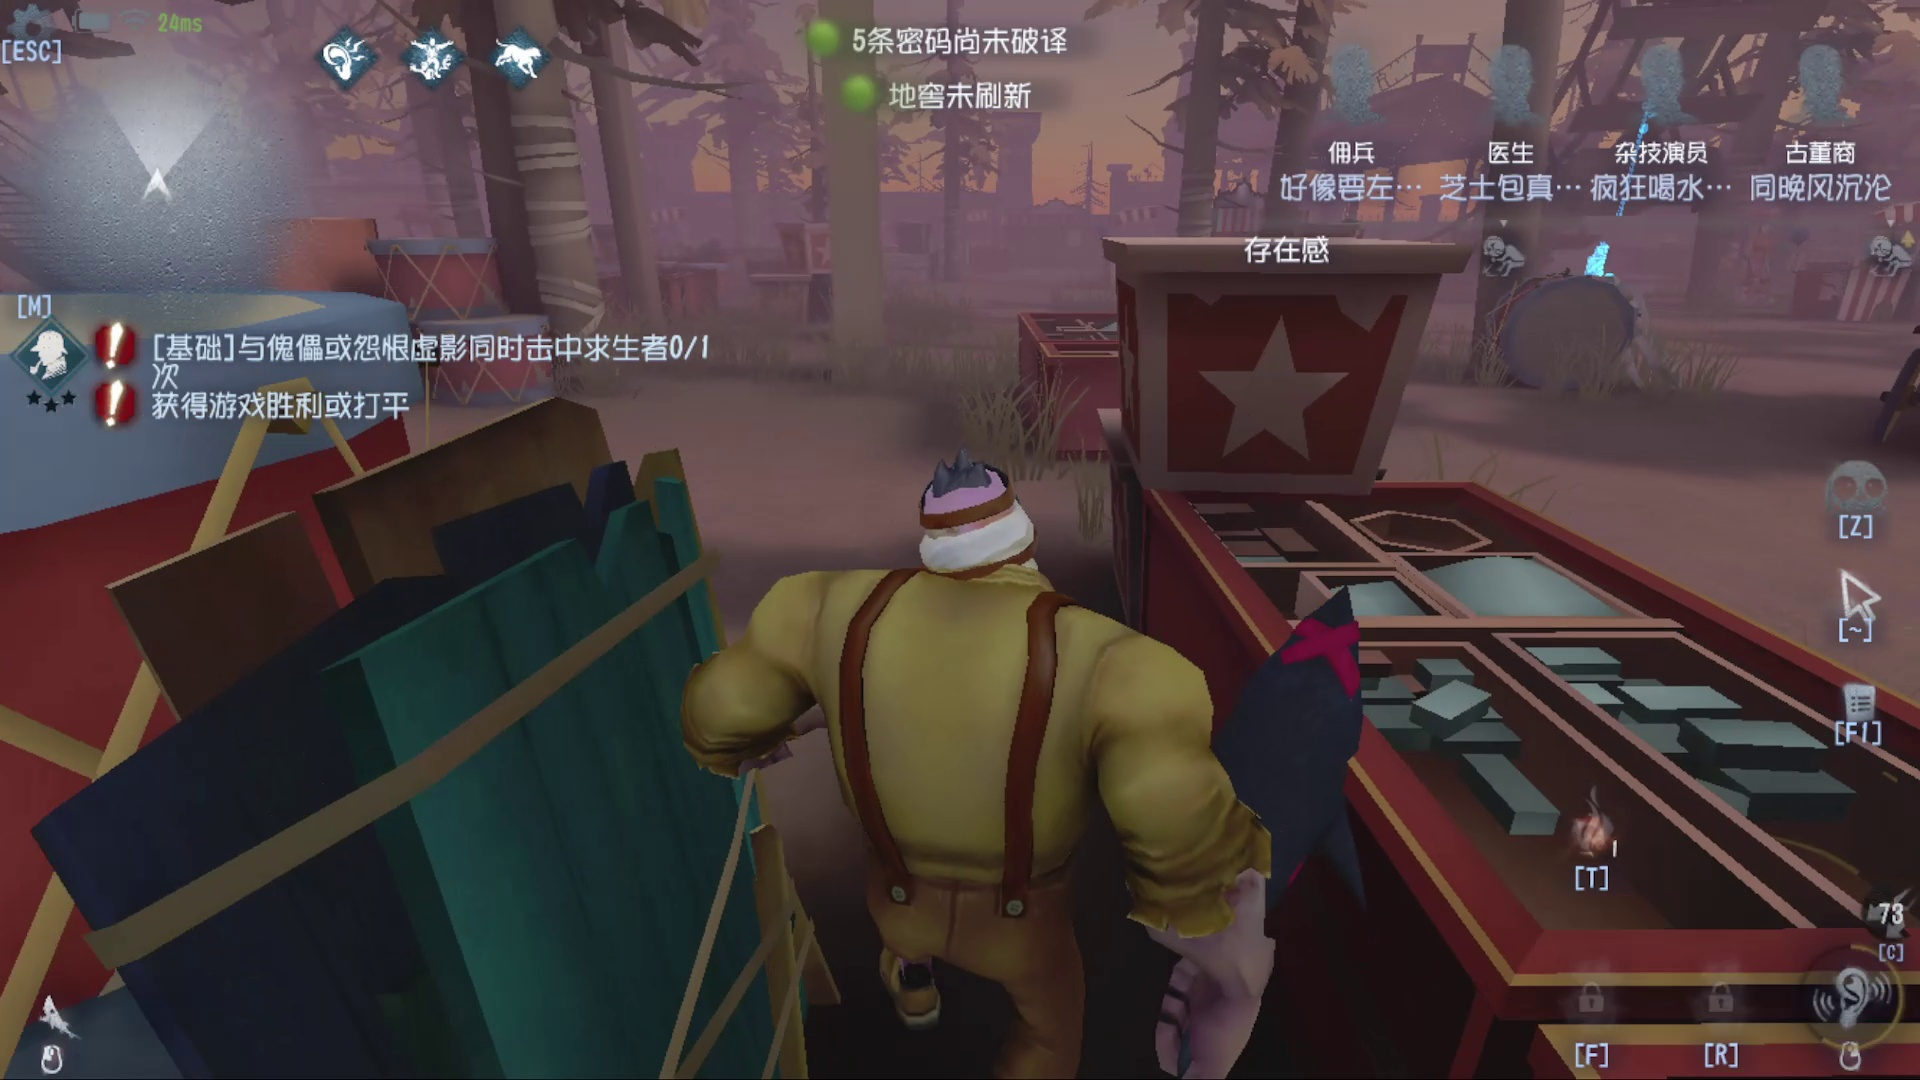密码机: (1568, 98, 1684, 287)
木板: (98, 429, 796, 1062)
